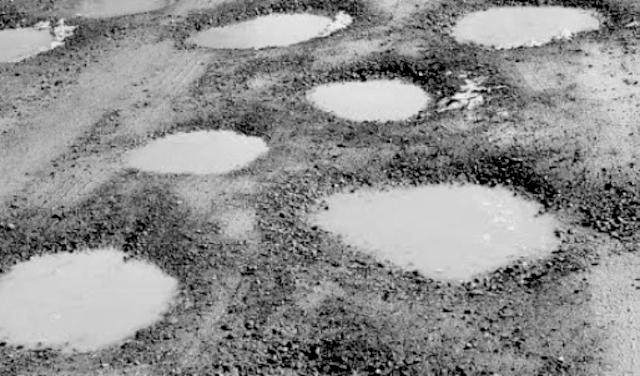Pothole: (297, 150, 573, 292), (1, 252, 200, 352), (172, 0, 370, 56), (291, 61, 453, 129), (440, 1, 636, 52), (118, 125, 272, 173), (0, 15, 92, 67), (44, 0, 174, 32)
